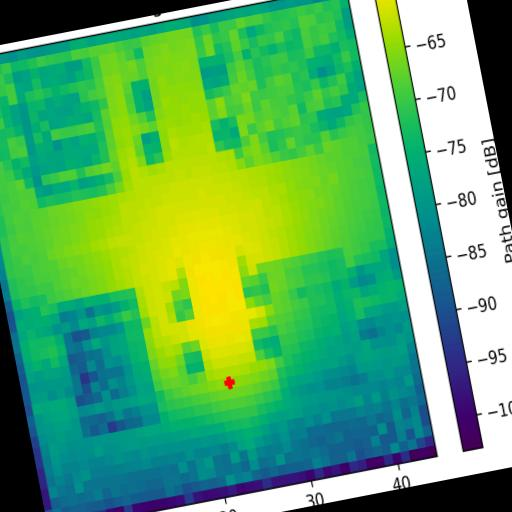Concrete: (212, 18, 325, 170)
Glass: (14, 58, 116, 197)
Metal: (256, 246, 369, 401)
Wood: (57, 288, 161, 439)
